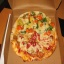pizza: (11, 10, 56, 58)
